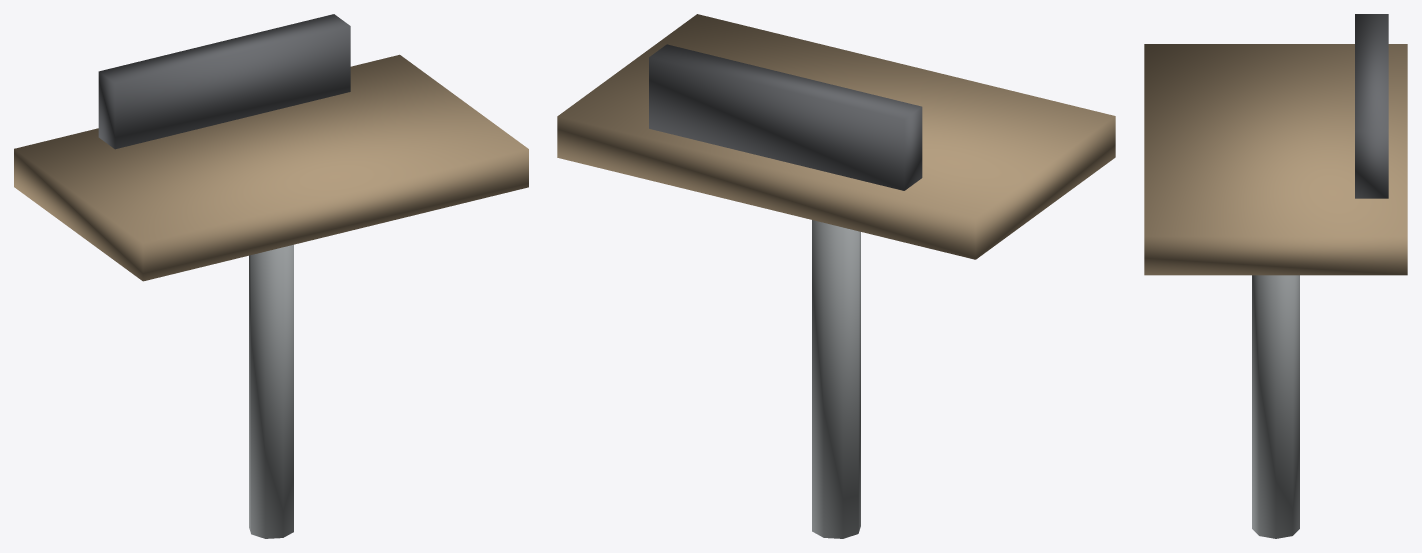
File: deposit_desk.glb
3 views of the same model, side by side, from view 1: azimuth 30°, elevation 25°; view 2: azimuth 150°, elevation 25°; view 3: azimuth 270°, elevation 25° (orthographic). The views are drawn at different scales.
Parts seen in each view (by area): view 1: world; view 2: world; view 3: world.
Part boxes in pixels (x1,y1,x2,y2): world: (14, 14, 528, 538); world: (557, 14, 1115, 538); world: (1144, 14, 1407, 538).
Bounding box in the file's own units: 0.95 × 1.05 × 0.55.
